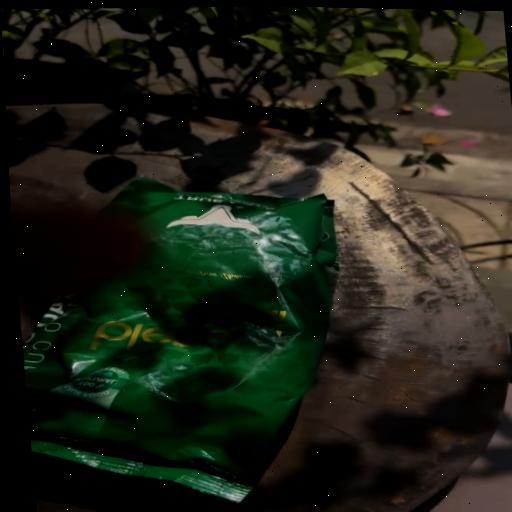cafe_xay: (21, 178, 337, 503)
